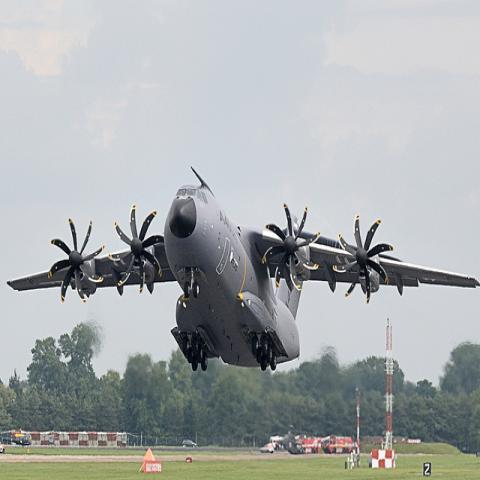car: (289, 440, 305, 454), (261, 444, 276, 455), (182, 440, 197, 448)
truck: (322, 436, 354, 454)
